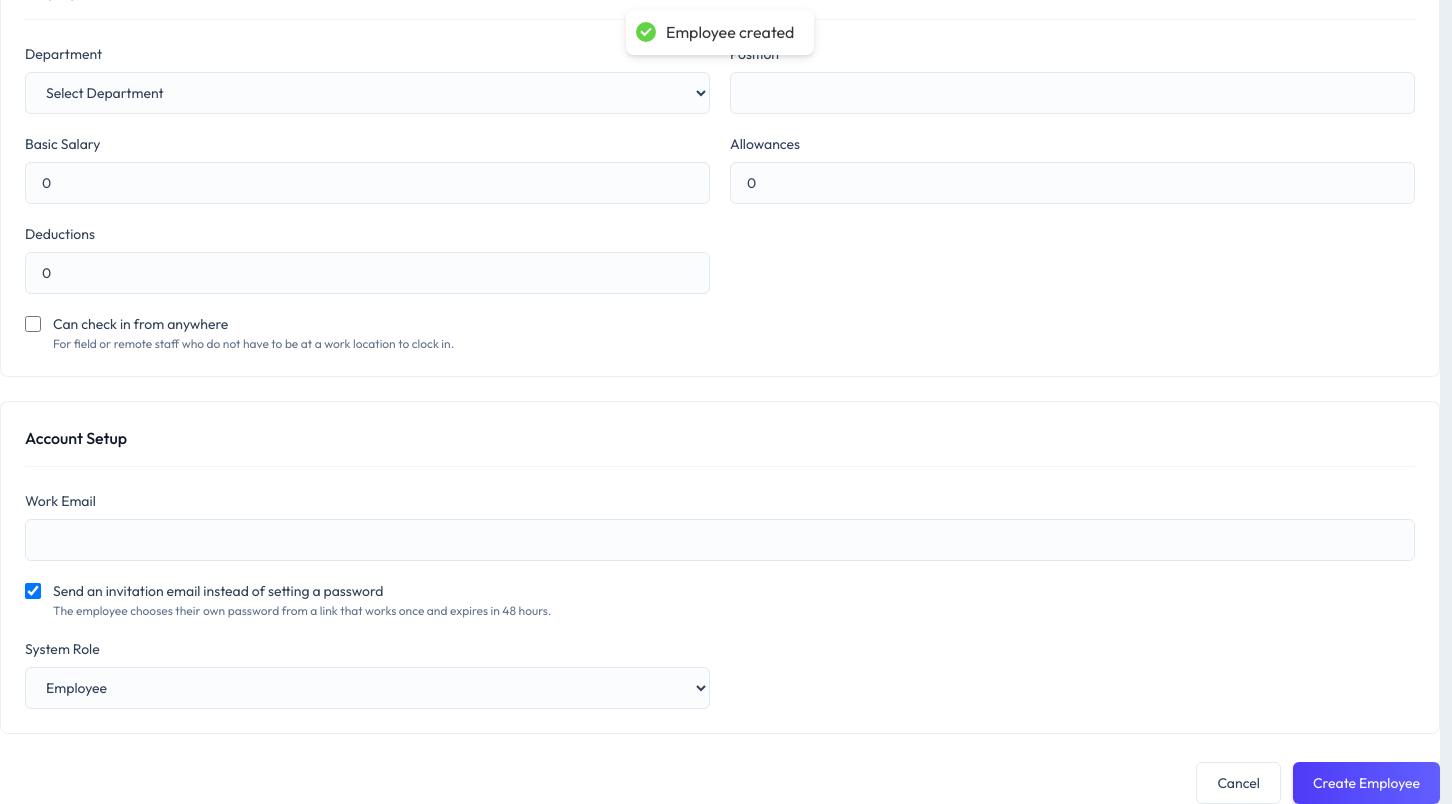
Test: EmployeeForm › requires a password once the invitation is switched off
The image size is (1452, 804).
(page scrolled)
Click the checkbox labelled "Send an invitation email instead of setting a password".
click(33, 591)  # box x1=25 y1=583 x2=41 y2=599
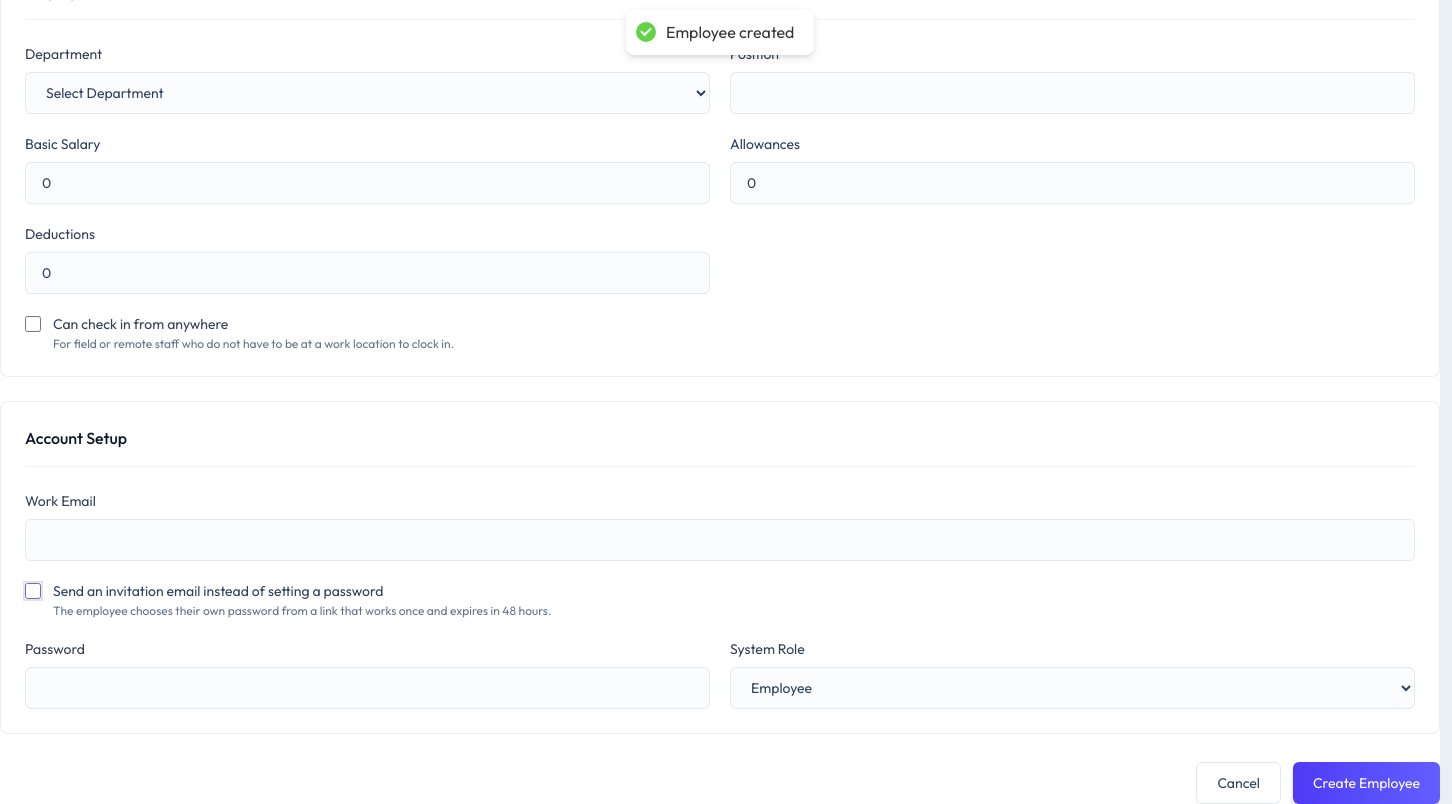
Click the button "Create Employee".
click(1366, 783)  # box x1=1293 y1=762 x2=1440 y2=803
(page scrolled)
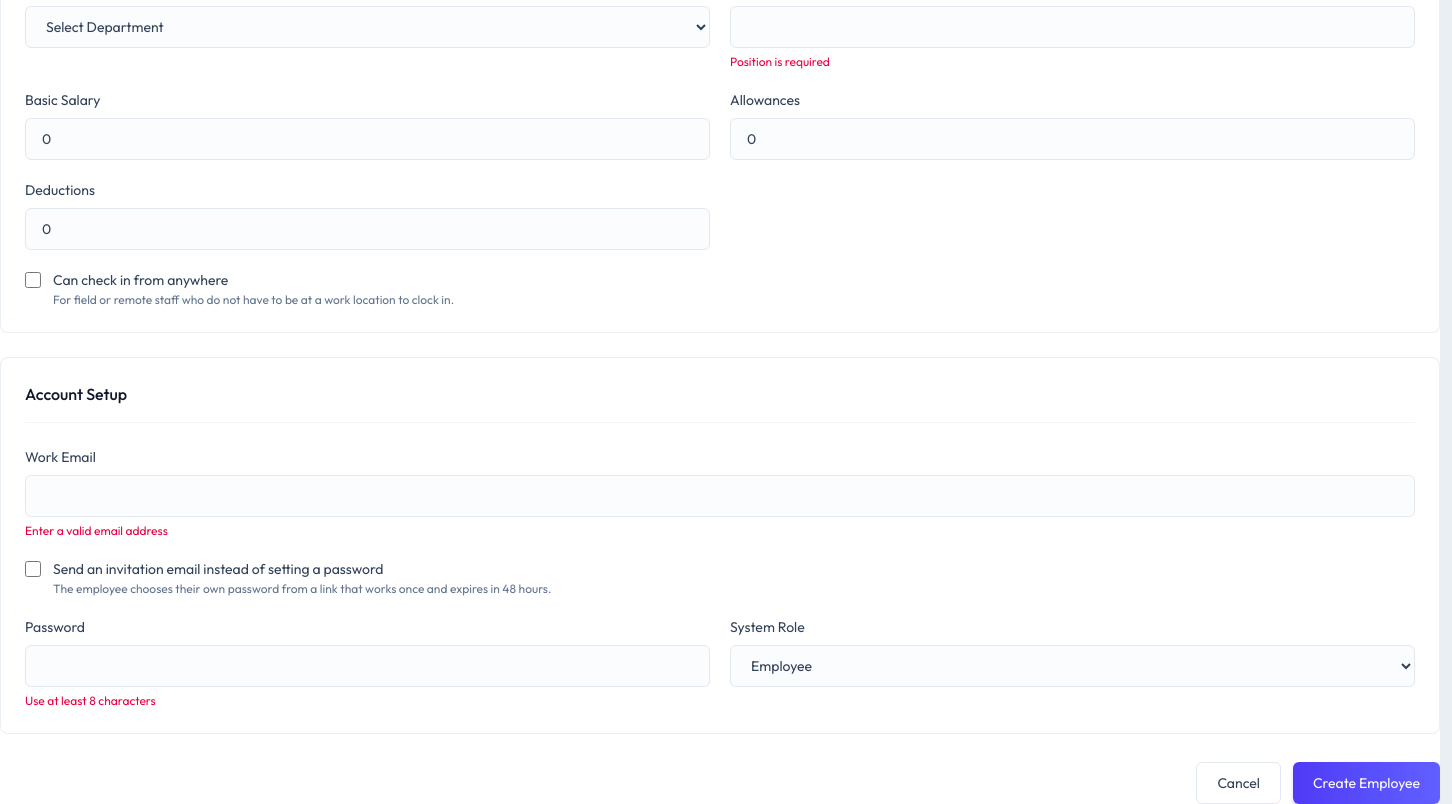
Expected: the text "Use at least 8 characters" is shown, x1=25 y1=693 x2=156 y2=708
